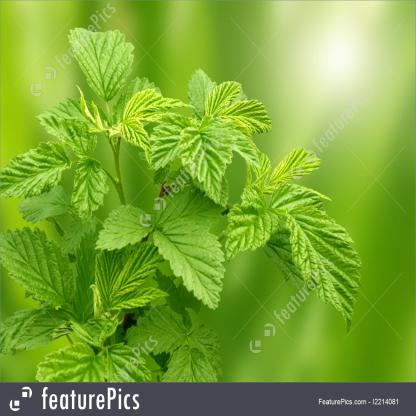Raspberry leaf: (285, 209, 361, 334), (153, 220, 223, 312), (68, 24, 136, 100), (221, 200, 271, 267), (93, 202, 159, 252)
